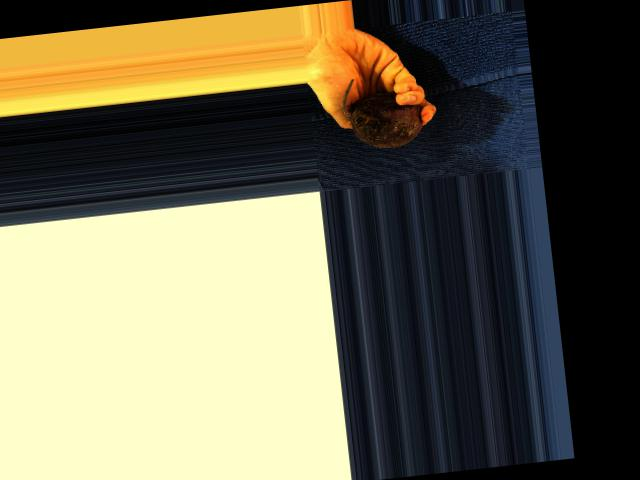beet: (339, 70, 425, 151)
